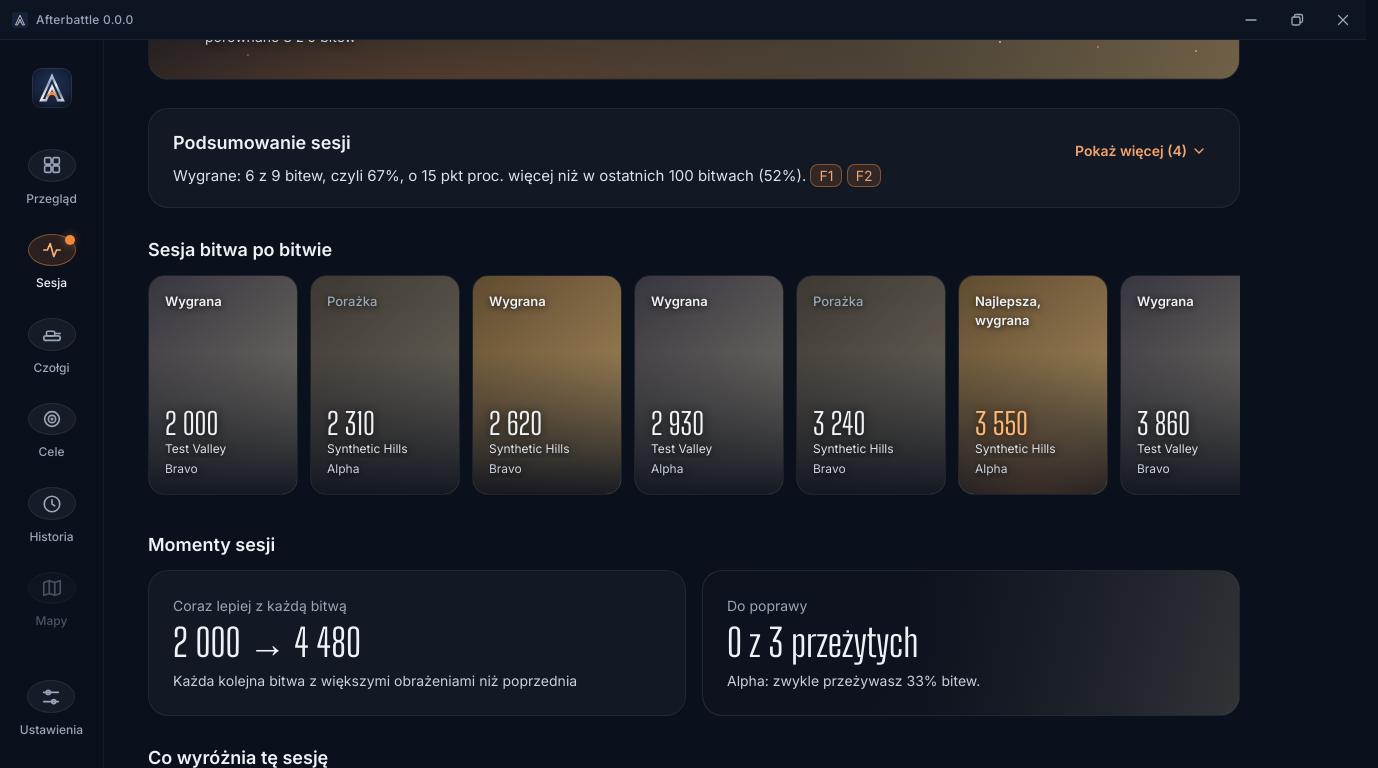
Session screen › tells the session as a headline on the best map, a strip of battles and moments (E5-flare §2)
(page scrolled)
Expected: the 1st text "Porażka" is shown, left=327, top=293, right=377, bottom=309
Expected: the 2nd text "Porażka" is shown, left=813, top=293, right=863, bottom=309
Click the button "Wygrana 2 000 Test Valley Bravo".
click(223, 385)  # box left=148, top=275, right=298, bottom=495
(page scrolled)
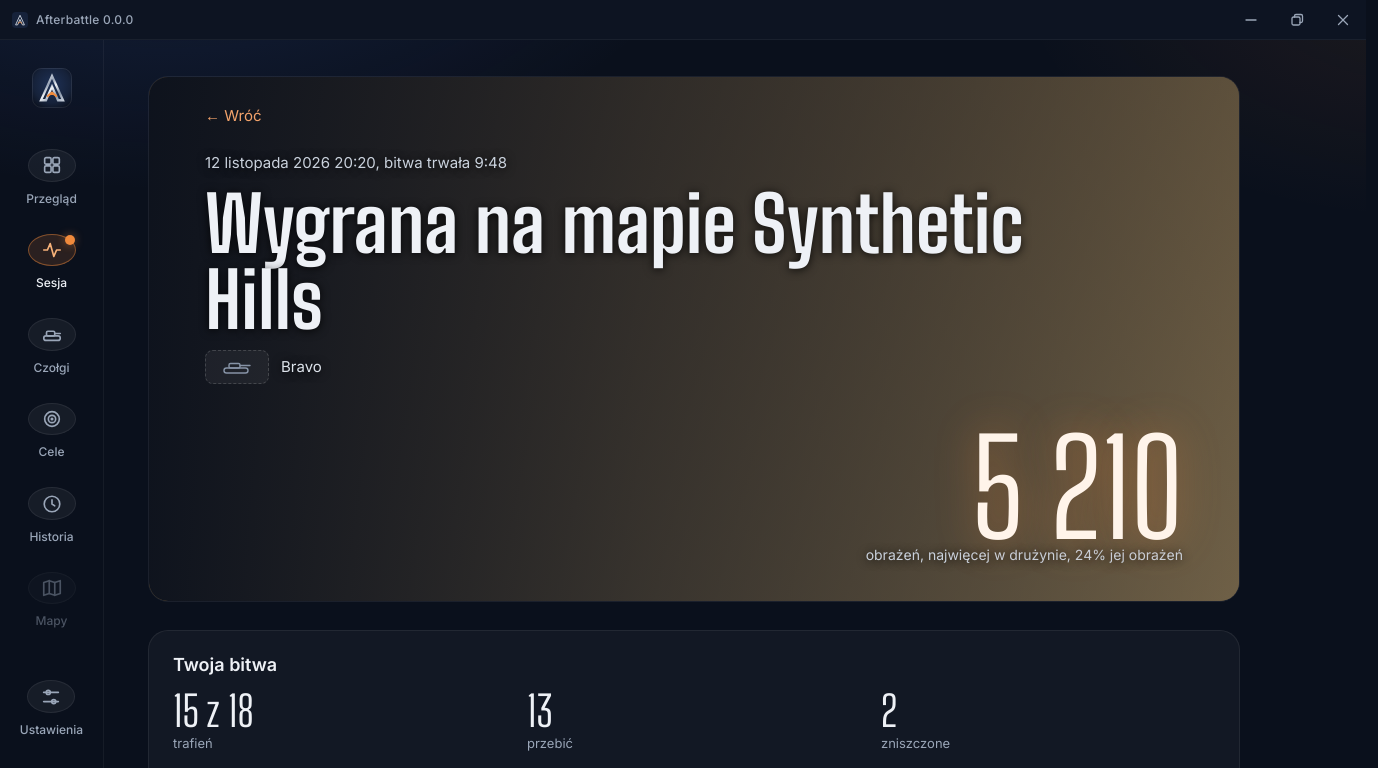
Result: the heading "Wygrana na mapie Synthetic Hills" is shown at left=205, top=186, right=1025, bottom=338
